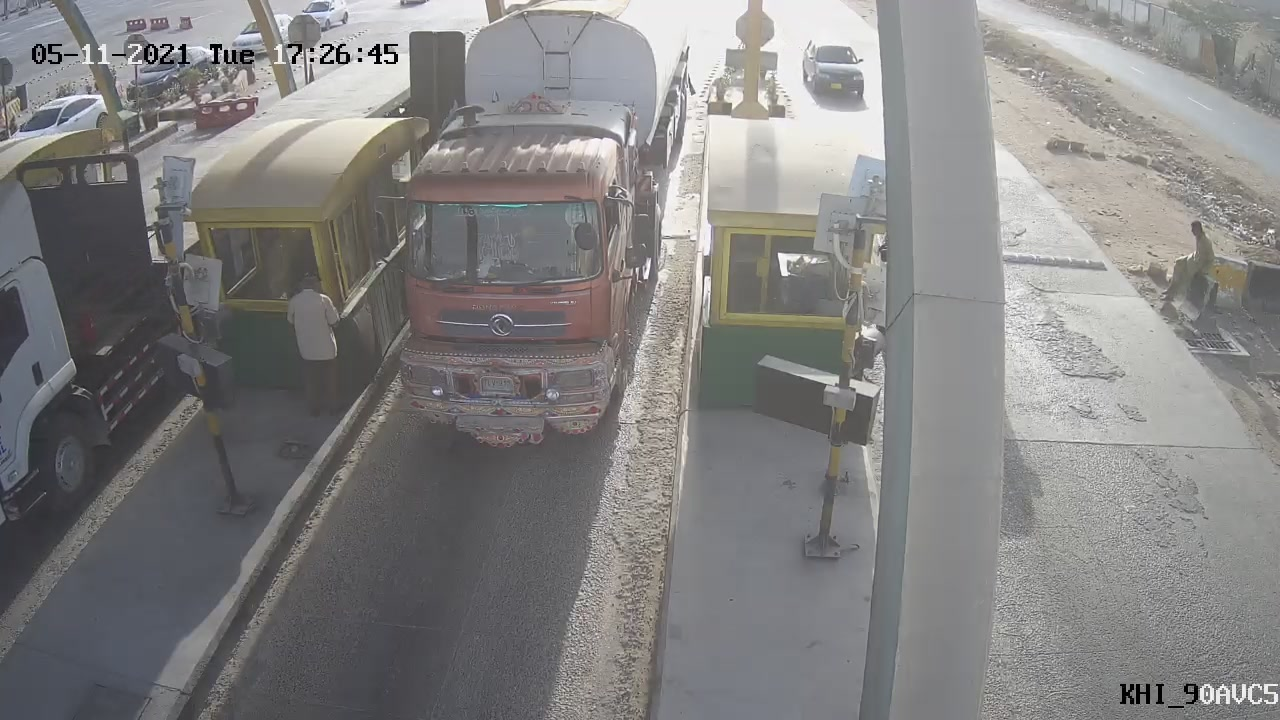F6: (366, 1, 705, 471)
